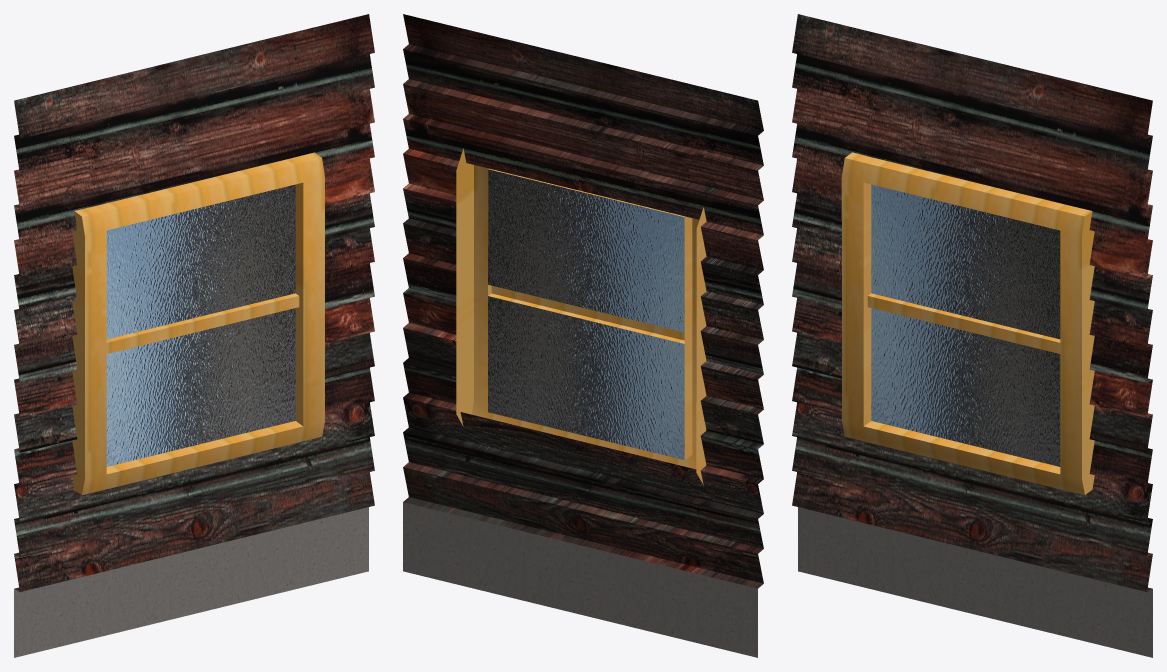
Rendered from SidingWindow_T.fbx.
3 views of the same model, side by side, from view 1: azimuth 30°, elevation 25°; view 2: azimuth 150°, elevation 25°; view 3: azimuth 330°, elevation 25° (orthographic).
Visible parts, largest first — view 1: SidingWindow, WindowPane, WindowFrame, WindowFoundation; view 2: SidingWindow, WindowPane, WindowFoundation, WindowFrame; view 3: SidingWindow, WindowPane, WindowFrame, WindowFoundation.
Part boxes in pixels (bbox=[...]): SidingWindow: bbox=[14, 14, 374, 591]; WindowPane: bbox=[106, 184, 295, 466]; WindowFrame: bbox=[72, 152, 324, 494]; WindowFoundation: bbox=[14, 507, 368, 657]; SidingWindow: bbox=[403, 14, 763, 588]; WindowPane: bbox=[488, 169, 684, 459]; WindowFoundation: bbox=[403, 502, 757, 657]; WindowFrame: bbox=[456, 148, 706, 484]; SidingWindow: bbox=[792, 14, 1152, 591]; WindowPane: bbox=[871, 184, 1060, 466]; WindowFrame: bbox=[841, 152, 1094, 494]; WindowFoundation: bbox=[798, 507, 1152, 657].
Size of the model in its own units: 1 by 1.5 by 0.086.
4 materials, 4 textured.
